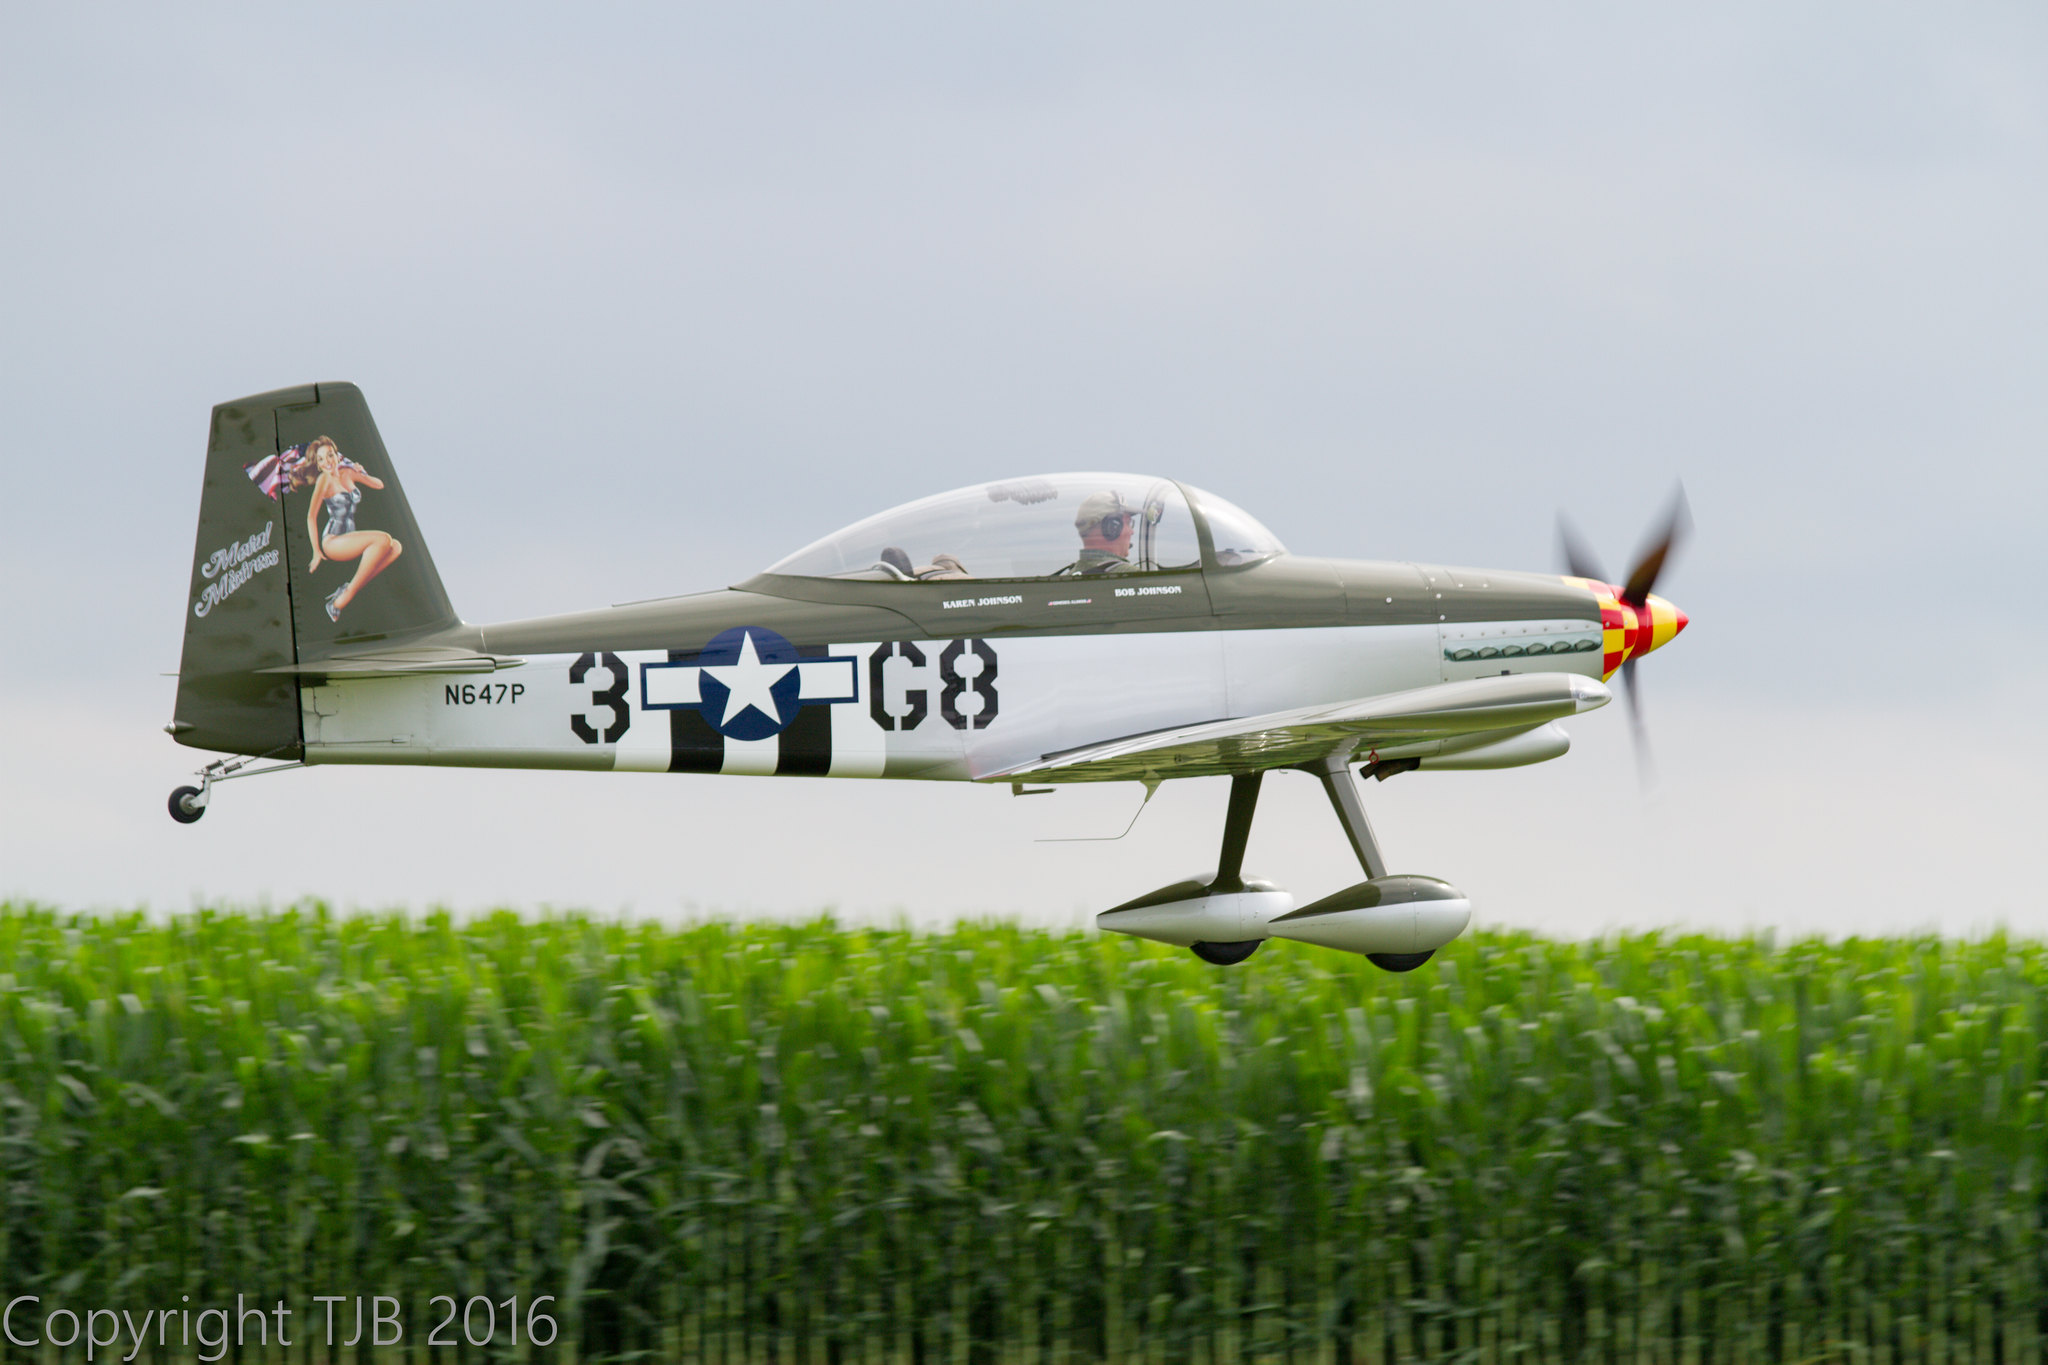aeroplane: (164, 372, 1711, 978)
